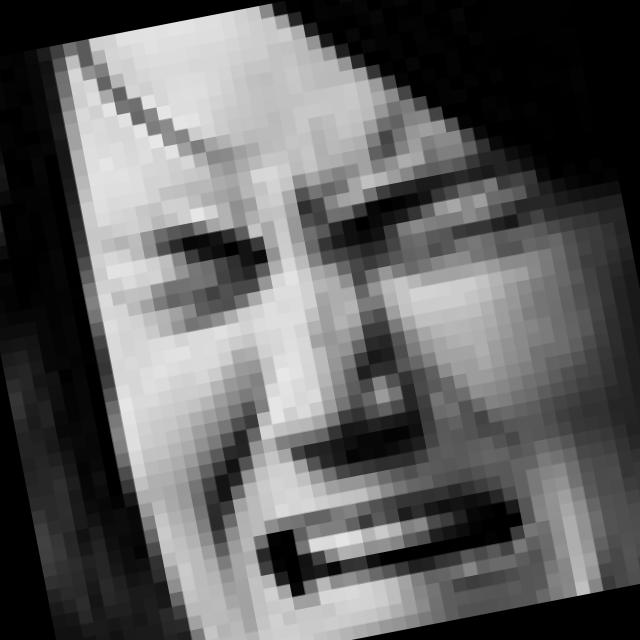disgust: (122, 135, 631, 640)
